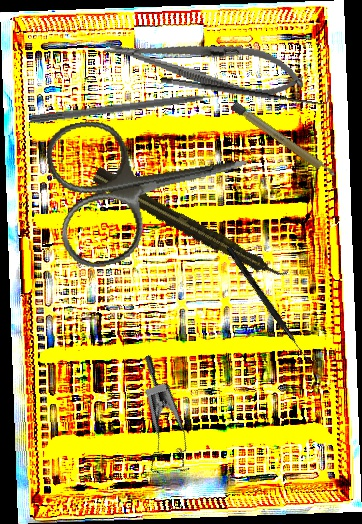Handpiece: (90, 164, 290, 288)
Hook Surgical: (224, 246, 313, 363), (160, 63, 332, 112)
Iris Scissors: (40, 92, 263, 273)
Needle Holder: (100, 21, 308, 107)
Pusher: (29, 89, 239, 126)
Scalpel Handle: (229, 100, 339, 182)
Speculum: (100, 353, 211, 487)
